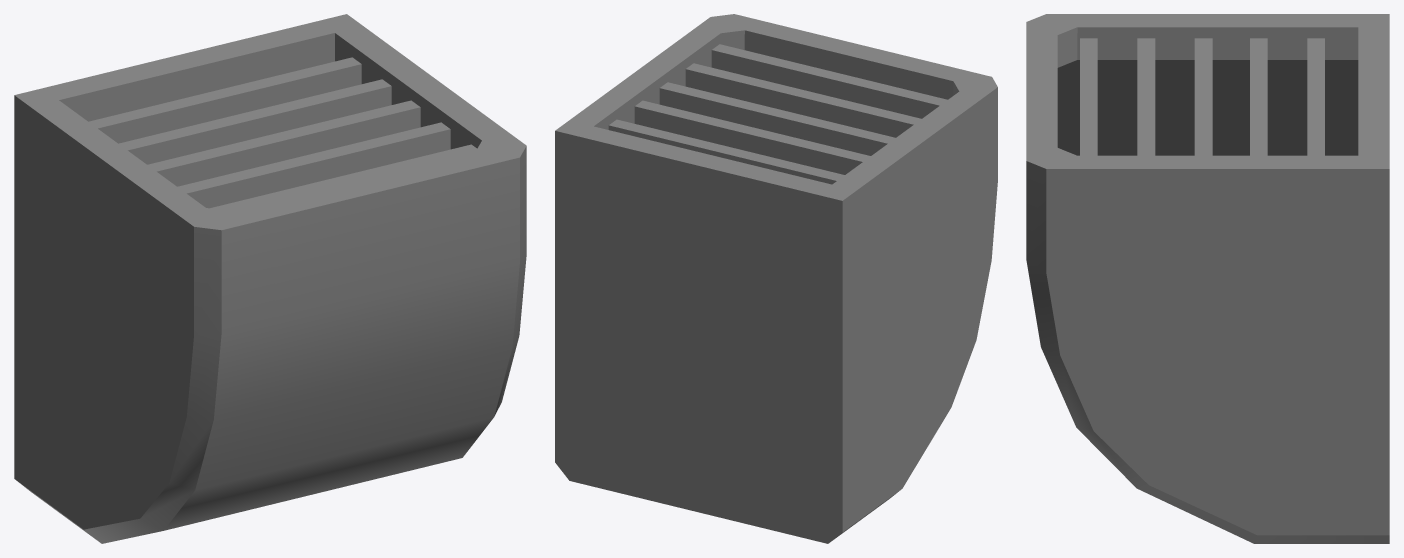
Rendered from VENTS_2_B.fbx.
3 renders of one model, left to right at view 1: azimuth 30°, elevation 25°; view 2: azimuth 150°, elevation 25°; view 3: azimuth 270°, elevation 25°, orthographic. The views are drawn at different scales.
Visible parts, largest first — view 1: VENTS_2_B; view 2: VENTS_2_B; view 3: VENTS_2_B.
Part boxes in pixels (<box>): VENTS_2_B: <box>14,14,526,543</box>; VENTS_2_B: <box>555,14,997,543</box>; VENTS_2_B: <box>1026,14,1389,543</box>.
Size of the model in its own units: 53.32 by 61.42 by 52.84.
